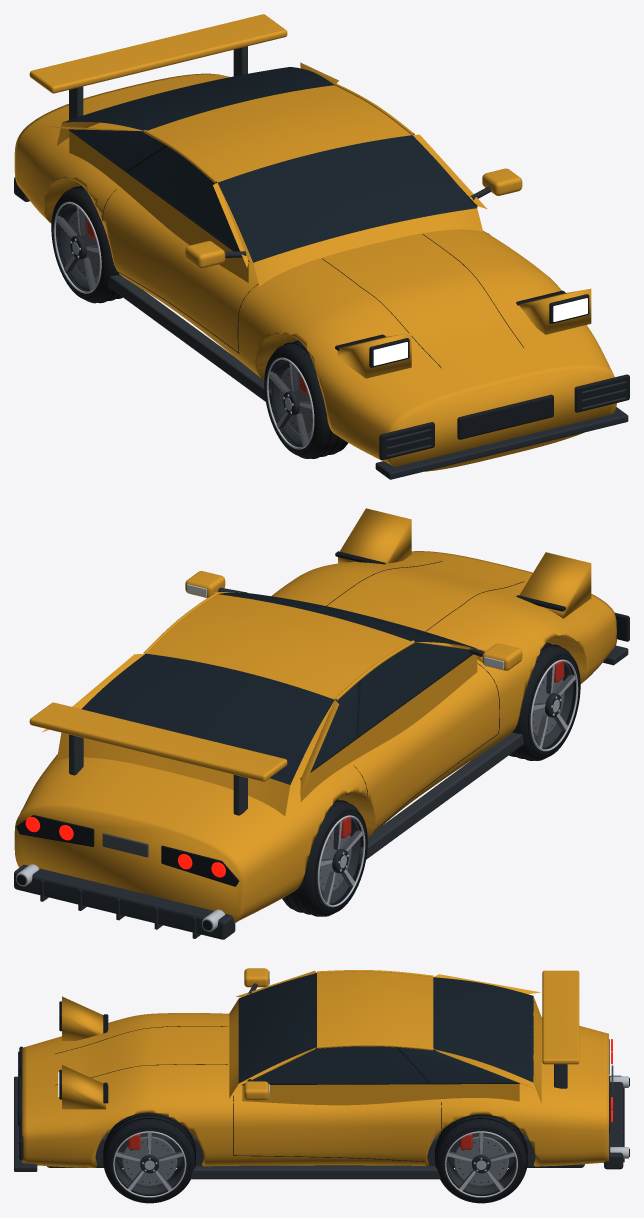
The picture shows the model from 3 angles, top to bottom: view 1: azimuth 30°, elevation 25°; view 2: azimuth 150°, elevation 25°; view 3: azimuth 270°, elevation 25°; orthographic projection. The views are drawn at different scales.
Visible parts, largest first — view 1: Body_SculptedQuadShell, Web_Chassis_Rig_rx7_Exterior_NewPaint, Web_Chassis_Rig_V6_Detail_Glass, Web_Chassis_Rig_Rubber, Web_Chassis_Rig_Graphite metal, Web_Chassis_Rig_Finish_CarbonWeave, Web_Wheel_FR_Rubber, Web_Wheel_RR_Rubber, Web_Chassis_Rig_V6 Rubber, Web_Chassis_Rig_White LED, Finish_SplitSpokes_RR, Finish_SplitSpokes_FR (+4 smaller); view 2: Body_SculptedQuadShell, Web_Chassis_Rig_rx7_Exterior_NewPaint, Web_Chassis_Rig_V6_Detail_Glass, Web_Chassis_Rig_Finish_CarbonWeave, Web_Chassis_Rig_Graphite metal, Web_Chassis_Rig_V6 Rubber, Web_Wheel_RR_Rubber, Web_Wheel_FR_Rubber, Finish_SplitSpokes_FR, Finish_SplitSpokes_RR, Brake rotor.001, Brake rotor (+4 smaller); view 3: Body_SculptedQuadShell, Web_Chassis_Rig_rx7_Exterior_NewPaint, Web_Chassis_Rig_V6_Detail_Glass, Web_Chassis_Rig_Graphite metal, Web_Wheel_FL_Rubber, Web_Wheel_RL_Rubber, Web_Chassis_Rig_Finish_CarbonWeave, Web_Chassis_Rig_V6 Rubber, Brake rotor.003, Brake rotor.002, Web_Wheel_FL_Graphite metal, Web_Wheel_RL_Graphite metal (+7 smaller).
Part boxes in pixels (x1,y1,x2,y2): Body_SculptedQuadShell: [14, 73, 616, 471]; Web_Chassis_Rig_rx7_Exterior_NewPaint: [29, 14, 591, 378]; Web_Chassis_Rig_V6_Detail_Glass: [62, 67, 476, 262]; Web_Chassis_Rig_Rubber: [369, 294, 629, 459]; Web_Chassis_Rig_Graphite metal: [69, 46, 626, 457]; Web_Chassis_Rig_Finish_CarbonWeave: [14, 177, 628, 479]; Web_Wheel_FR_Rubber: [264, 341, 348, 458]; Web_Wheel_RR_Rubber: [51, 186, 121, 303]; Web_Chassis_Rig_V6 Rubber: [68, 129, 565, 368]; Web_Chassis_Rig_White LED: [373, 298, 587, 365]; Finish_SplitSpokes_RR: [56, 207, 98, 290]; Finish_SplitSpokes_FR: [269, 363, 311, 446]; Body_SculptedQuadShell: [14, 551, 616, 922]; Web_Chassis_Rig_rx7_Exterior_NewPaint: [29, 508, 591, 816]; Web_Chassis_Rig_V6_Detail_Glass: [81, 592, 475, 784]; Web_Chassis_Rig_Finish_CarbonWeave: [14, 645, 628, 939]; Web_Chassis_Rig_Graphite metal: [69, 732, 524, 922]; Web_Chassis_Rig_V6 Rubber: [16, 551, 565, 886]; Web_Wheel_RR_Rubber: [282, 799, 367, 916]; Web_Wheel_FR_Rubber: [510, 643, 580, 760]; Finish_SplitSpokes_FR: [533, 664, 575, 748]; Finish_SplitSpokes_RR: [320, 820, 362, 903]; Brake rotor.001: [532, 673, 564, 737]; Brake rotor: [319, 829, 351, 892]; Body_SculptedQuadShell: [22, 1013, 608, 1167]; Web_Chassis_Rig_rx7_Exterior_NewPaint: [62, 968, 579, 1109]; Web_Chassis_Rig_V6_Detail_Glass: [238, 973, 533, 1083]; Web_Chassis_Rig_Graphite metal: [18, 1051, 584, 1179]; Web_Wheel_FL_Rubber: [104, 1112, 195, 1203]; Web_Wheel_RL_Rubber: [435, 1114, 526, 1203]; Web_Chassis_Rig_Finish_CarbonWeave: [14, 1075, 624, 1171]; Web_Chassis_Rig_V6 Rubber: [55, 1014, 609, 1161]; Brake rotor.003: [122, 1136, 177, 1186]; Brake rotor.002: [454, 1136, 508, 1186]; Web_Wheel_FL_Graphite metal: [114, 1136, 184, 1195]; Web_Wheel_RL_Graphite metal: [446, 1138, 516, 1195].
Size of the model in its own units: 2.13 by 1.23 by 4.49.
